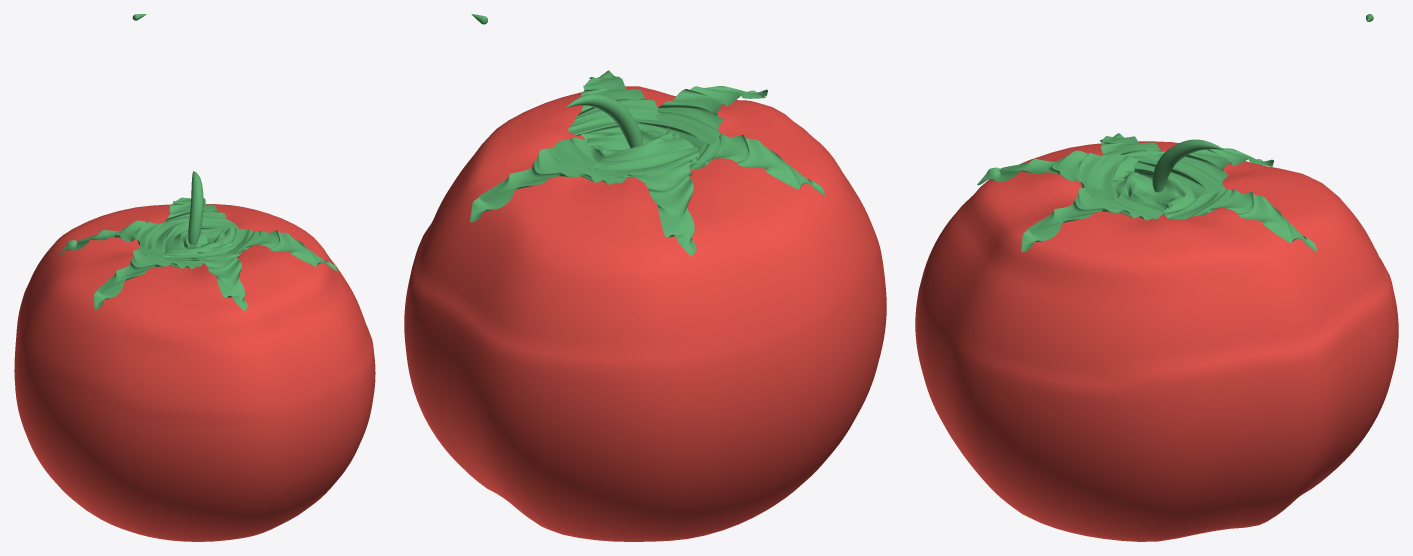
Rendered from tomato.fbx.
The picture shows the model from 3 angles, left to right: view 1: azimuth 30°, elevation 25°; view 2: azimuth 150°, elevation 25°; view 3: azimuth 270°, elevation 25°; orthographic projection. The views are drawn at different scales.
Parts seen in each view (by area): view 1: s.0173, s.0183, s.0184, s.0179, s.0182, s.0177, s.0181; view 2: s.0173, s.0183, s.0184, s.0177, s.0179, s.0182, s.0181; view 3: s.0173, s.0183, s.0184, s.0179, s.0177, s.0181, s.0182.
Boxes of the visible parts, x1=… form: s.0173: x1=14, y1=204, x2=375, y2=541; s.0183: x1=59, y1=220, x2=207, y2=255; s.0184: x1=163, y1=240, x2=247, y2=310; s.0179: x1=207, y1=227, x2=337, y2=271; s.0182: x1=93, y1=246, x2=203, y2=309; s.0177: x1=162, y1=197, x2=237, y2=238; s.0181: x1=188, y1=171, x2=203, y2=248; s.0173: x1=404, y1=86, x2=886, y2=541; s.0183: x1=593, y1=133, x2=698, y2=256; s.0184: x1=624, y1=86, x2=767, y2=148; s.0177: x1=470, y1=137, x2=627, y2=222; s.0179: x1=568, y1=70, x2=660, y2=150; s.0182: x1=666, y1=127, x2=825, y2=195; s.0181: x1=565, y1=93, x2=642, y2=148; s.0173: x1=915, y1=141, x2=1398, y2=541; s.0183: x1=1132, y1=148, x2=1273, y2=201; s.0184: x1=977, y1=150, x2=1154, y2=198; s.0179: x1=1021, y1=187, x2=1172, y2=251; s.0177: x1=1162, y1=186, x2=1316, y2=251; s.0181: x1=1152, y1=139, x2=1224, y2=192; s.0182: x1=1100, y1=133, x2=1165, y2=183.
Bounding box in the file's own units: 11.75 × 15.18 × 13.02.
